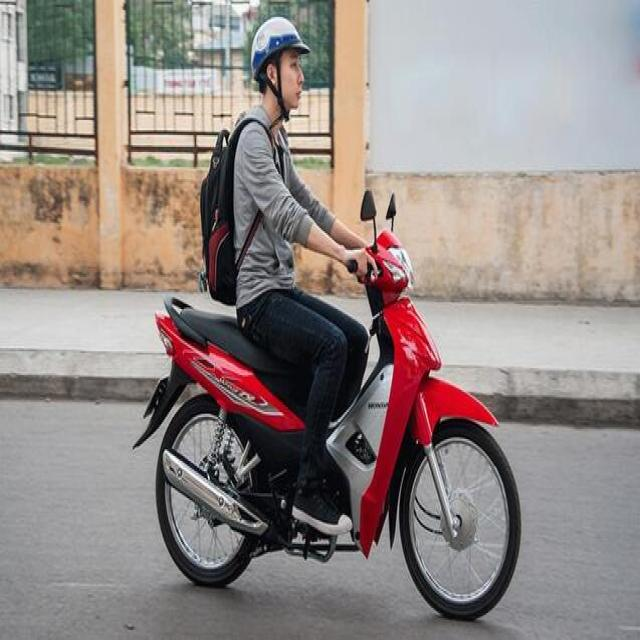helmet: (250, 15, 312, 82)
